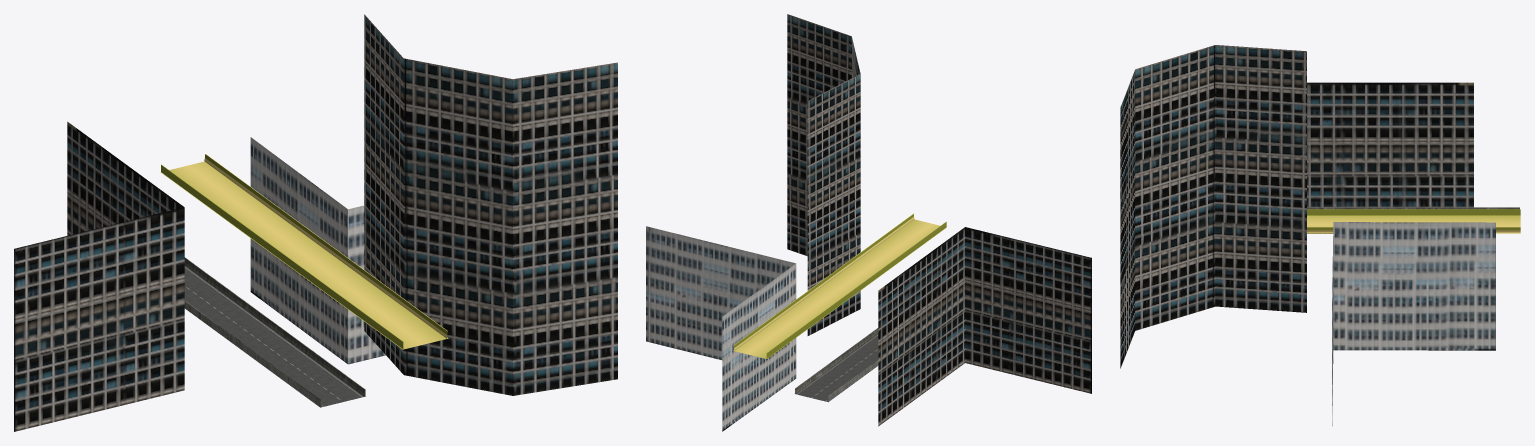
File: Enviroment_assets_1.4.fbx
3 views of the same model, side by side, from view 1: azimuth 30°, elevation 25°; view 2: azimuth 150°, elevation 25°; view 3: azimuth 270°, elevation 25° (orthographic). The views are drawn at different scales.
Parts seen in each view (by area): view 1: Cube.012, Plane.005, Road_plane, Plane.006, Plane.001, Plane.002; view 2: Cube.012, Plane.005, Plane.006, Road_plane, Plane.001; view 3: Cube.012, Plane.006, Plane.005, Plane.002.
Part boxes in pixels (<box>): Cube.012: <box>14,14,617,431</box>; Plane.005: <box>160,161,448,349</box>; Road_plane: <box>184,265,364,407</box>; Plane.006: <box>161,154,447,349</box>; Plane.001: <box>184,257,365,396</box>; Plane.002: <box>184,300,321,407</box>; Cube.012: <box>646,14,1091,431</box>; Plane.005: <box>733,219,946,358</box>; Plane.006: <box>733,213,946,358</box>; Road_plane: <box>794,334,878,402</box>; Plane.001: <box>795,328,878,393</box>; Cube.012: <box>1120,45,1495,425</box>; Plane.006: <box>1307,209,1520,233</box>; Plane.005: <box>1307,216,1520,233</box>; Plane.002: <box>1307,207,1519,209</box>.
Size of the model in its own units: 40642 by 24717 by 30000.
